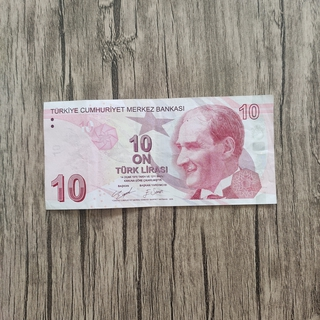10TLFront: (42, 94, 279, 210)
